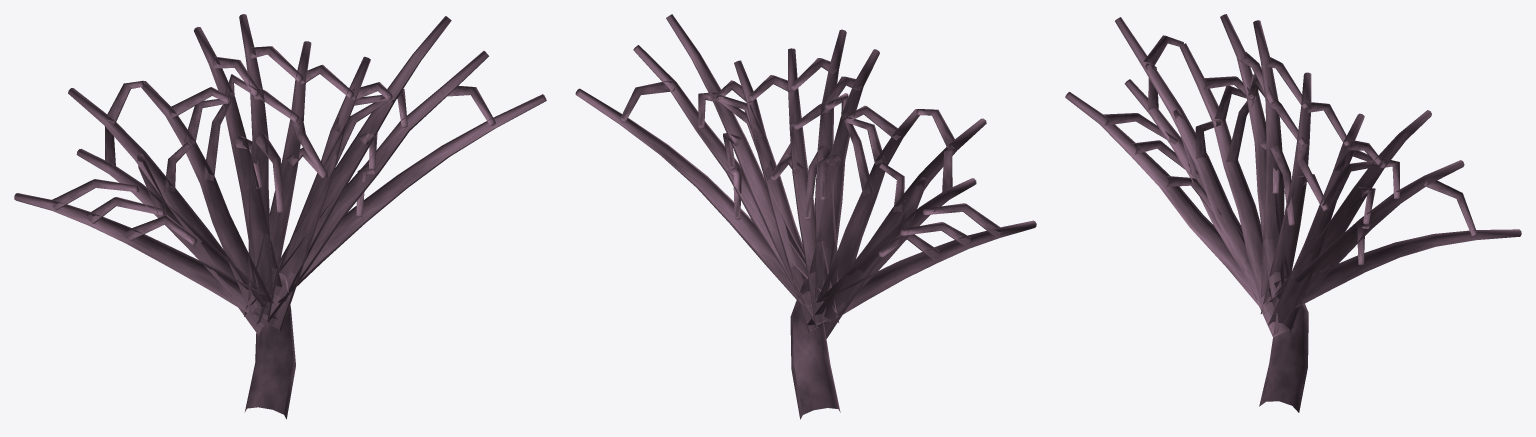
File: coral_seafan_b.glb
The picture shows the model from 3 angles, left to right: view 1: azimuth 30°, elevation 25°; view 2: azimuth 150°, elevation 25°; view 3: azimuth 330°, elevation 25°; orthographic projection. The views are drawn at different scales.
Parts seen in each view (by area): view 1: world; view 2: world; view 3: world.
Boxes of the visible parts, bbox=[...] form: world: bbox=[14, 14, 546, 419]; world: bbox=[575, 14, 1036, 419]; world: bbox=[1065, 14, 1521, 412].
Size of the model in its own units: 2.01 by 1.56 by 0.2255.
1 material, 1 textured.
